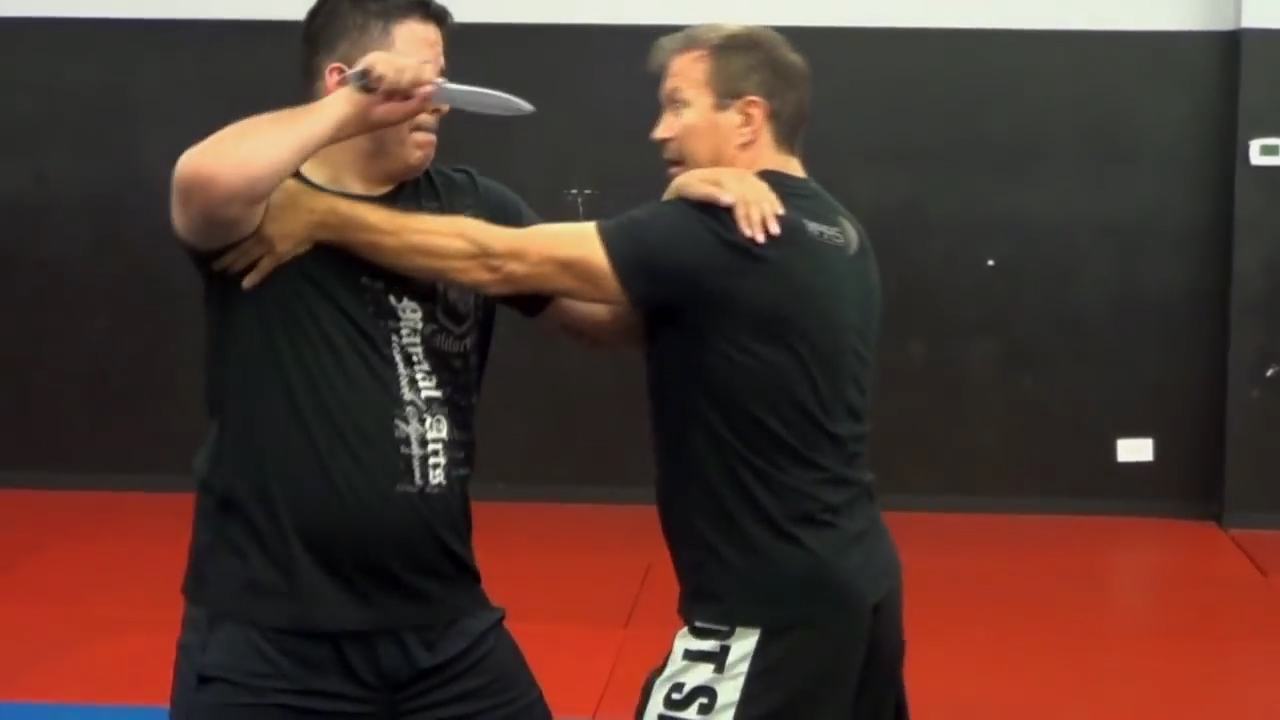knife: (344, 46, 547, 126)
